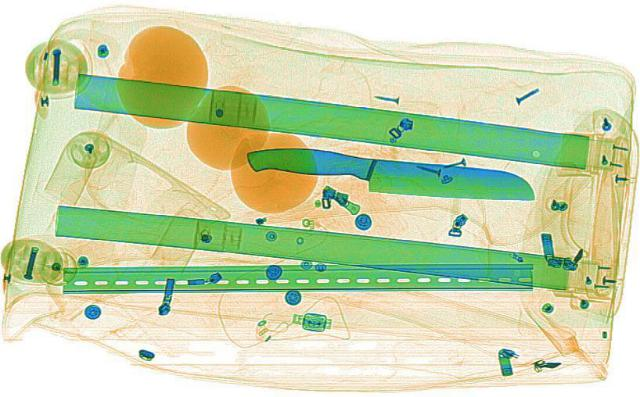Knife: (238, 143, 542, 204)
